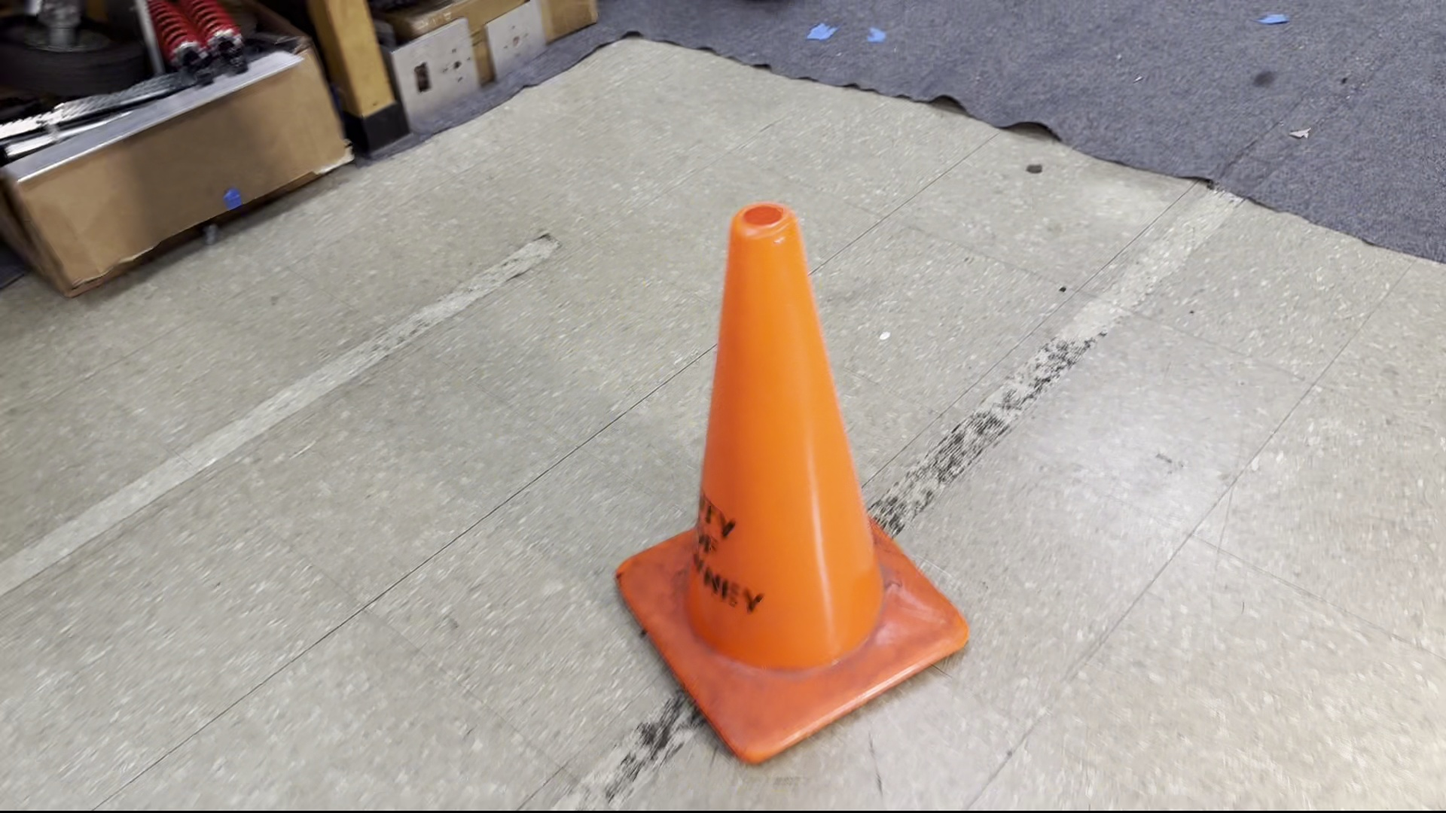traffic_cone: (613, 201, 970, 766)
